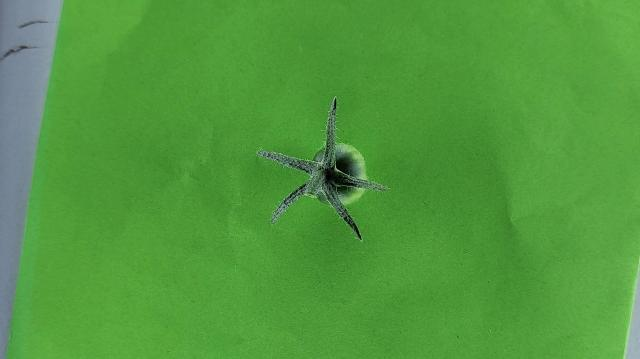Fruit Maturation: (311, 143, 370, 208)
